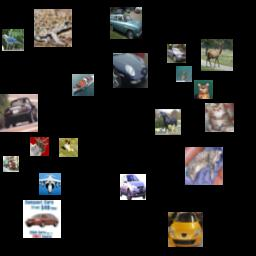airplane: (39, 173, 61, 195)
automobile: (23, 200, 61, 238), (0, 94, 38, 132), (113, 53, 148, 88), (168, 212, 203, 247), (110, 7, 142, 39), (120, 174, 146, 200), (167, 44, 186, 63)
bird: (2, 29, 24, 51), (176, 66, 192, 82)
cat: (185, 147, 223, 185), (205, 103, 234, 132), (194, 80, 213, 99)
deer: (201, 39, 233, 71), (30, 137, 49, 156)
dog: (59, 138, 78, 157)
frog: (34, 9, 72, 47)
ship: (72, 74, 94, 96)
truck: (3, 156, 19, 172)
